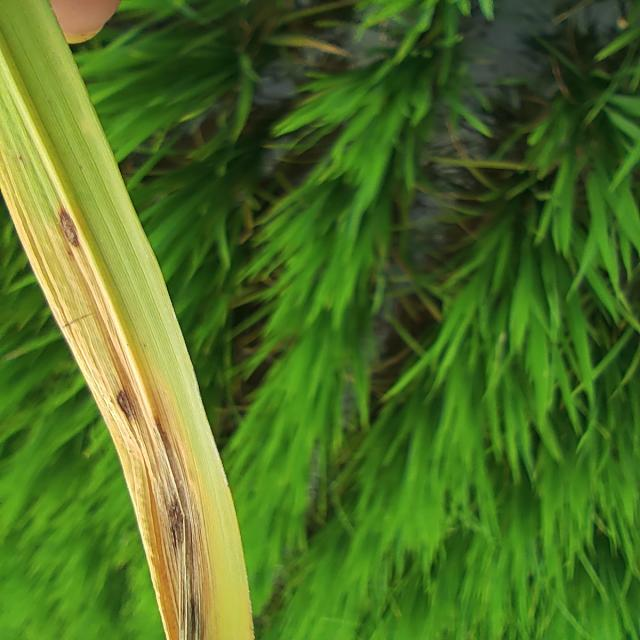Rice Tungro: (38, 208, 212, 640)
